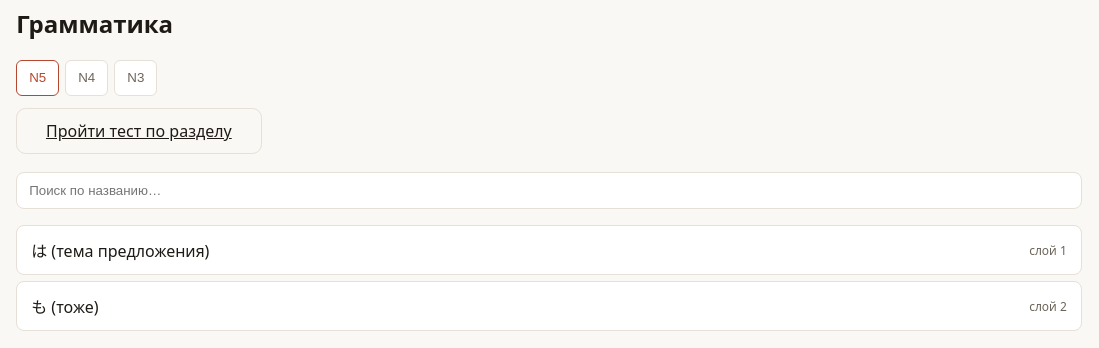
GrammarListScreen › marks a coming-soon level as empty
This screenshot has width=1099, height=348.
Click the tab "N3" at point(136, 78), box [114,60,157,96]
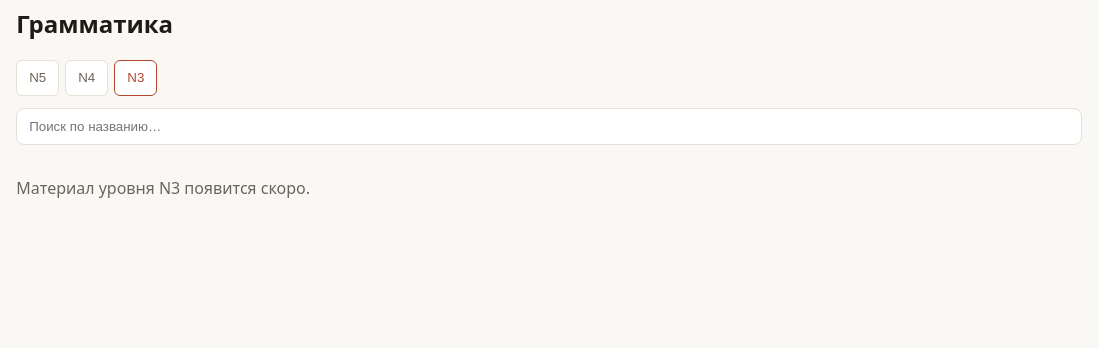
Check: the text "Материал уровня N3 появится скоро." is shown, box [16,177,310,199]
